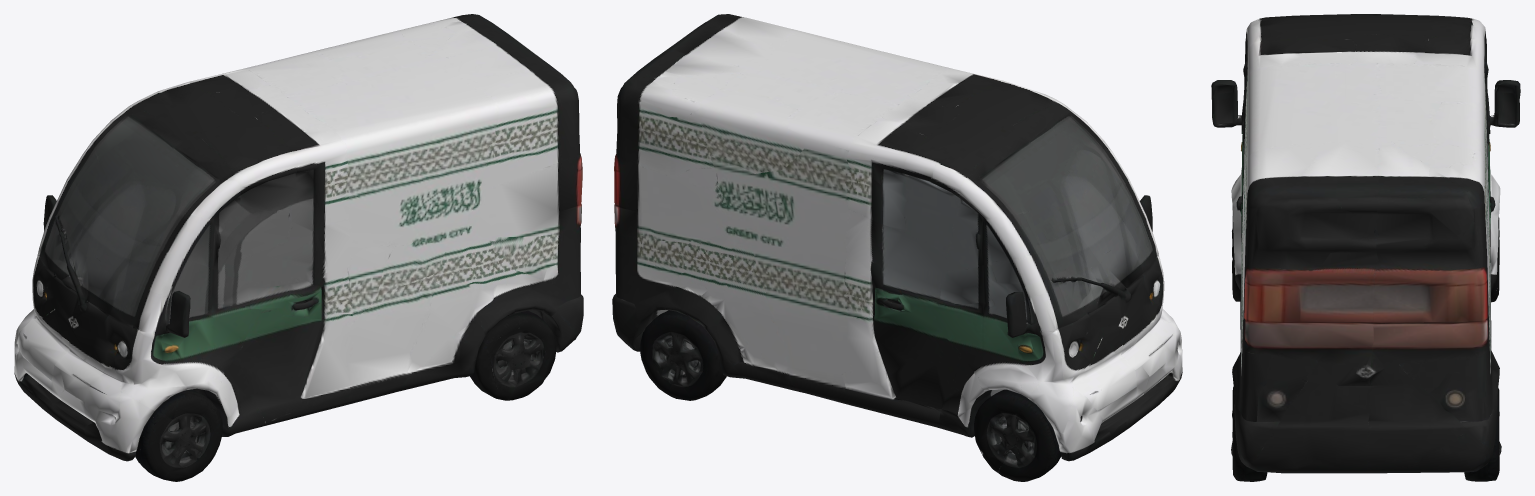
The model's file is shuttle_lod1.glb.
The picture shows the model from 3 angles, left to right: view 1: azimuth 30°, elevation 25°; view 2: azimuth 150°, elevation 25°; view 3: azimuth 270°, elevation 25°; orthographic projection. The views are drawn at different scales.
Parts seen in each view (by area): view 1: mesh_node; view 2: mesh_node; view 3: mesh_node.
Part boxes in pixels (x1,y1,x2,y2): mesh_node: (14, 14, 583, 481); mesh_node: (612, 14, 1182, 481); mesh_node: (1211, 14, 1520, 481).
Bounding box in the file's own units: 1.9 × 1.13 × 0.9744.
1 material, 1 textured.
